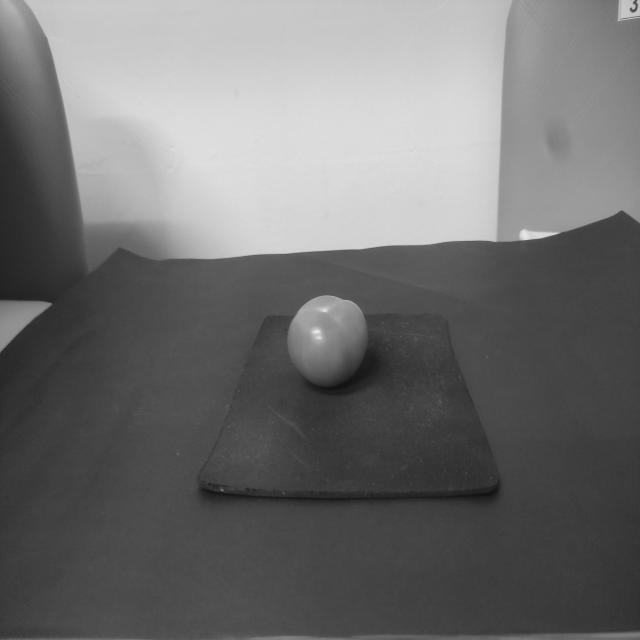sari: (284, 269, 379, 393)
